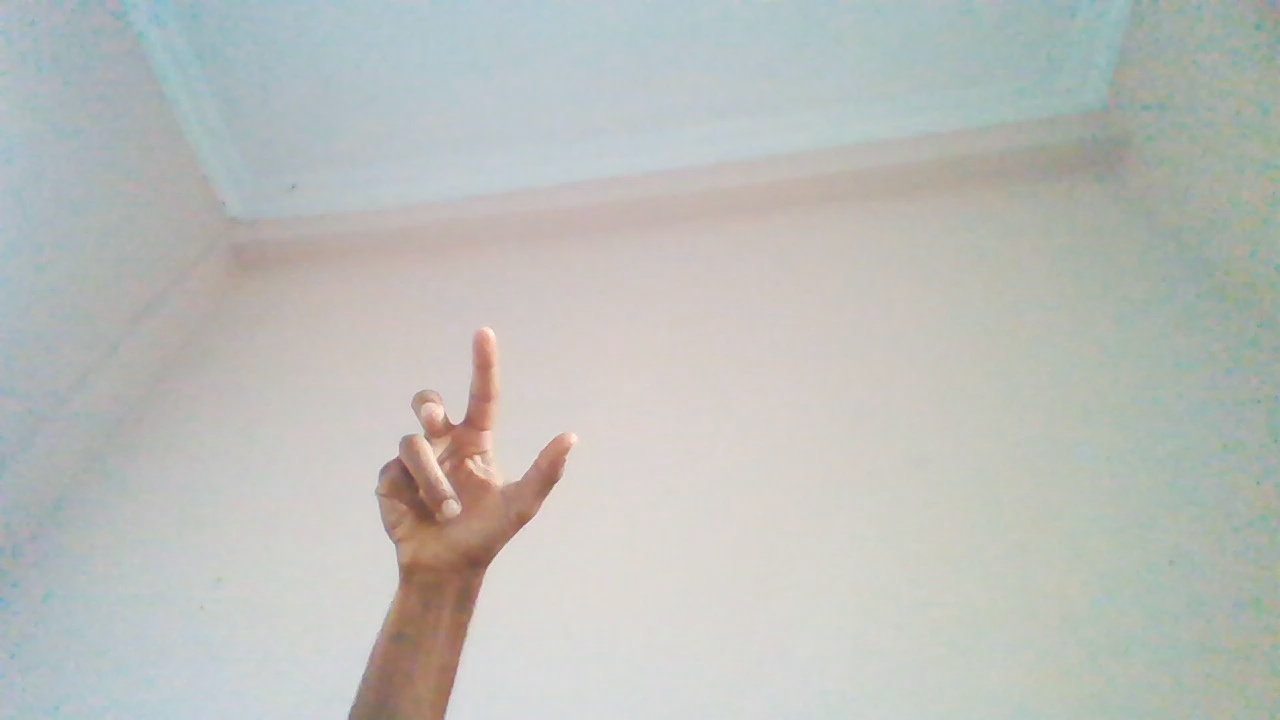hhe: (380, 323, 577, 680)
